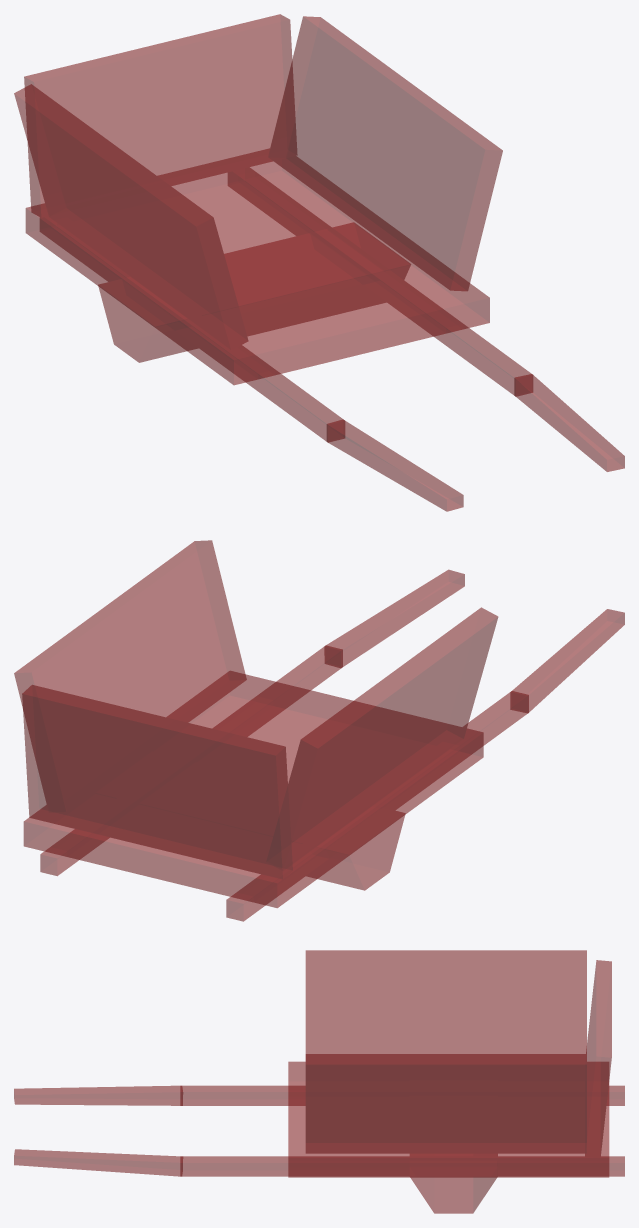
The model's file is SM_Prop_Cart_01_Collision.fbx.
3 renders of one model, top to bottom at view 1: azimuth 30°, elevation 25°; view 2: azimuth 150°, elevation 25°; view 3: azimuth 270°, elevation 25°, orthographic. The views are drawn at different scales.
Parts seen in each view (by area): view 1: SM_Prop_Cart_01_Collision; view 2: SM_Prop_Cart_01_Collision; view 3: SM_Prop_Cart_01_Collision.
Part boxes in pixels (box(x1,y1,x2,y2)): SM_Prop_Cart_01_Collision: box(14, 14, 624, 511); SM_Prop_Cart_01_Collision: box(14, 540, 624, 921); SM_Prop_Cart_01_Collision: box(14, 950, 624, 1213).
Size of the model in its own units: 142 by 92.94 by 318.
